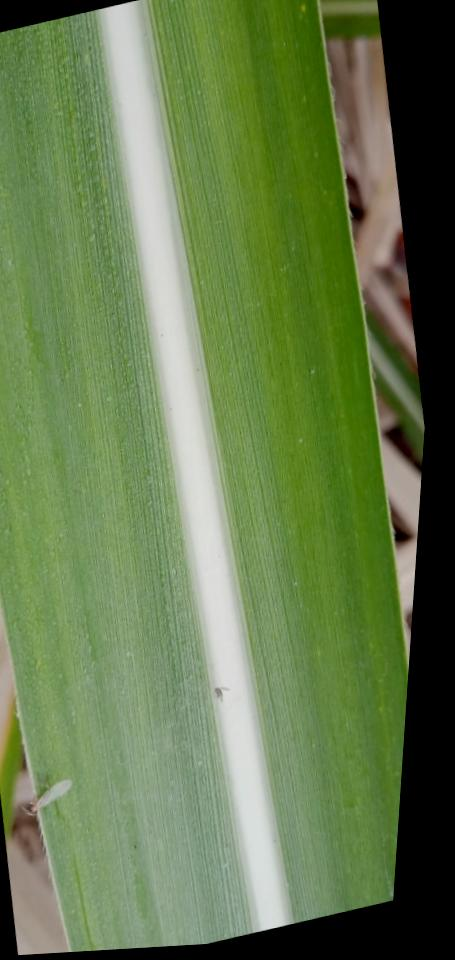Healthy: (0, 0, 408, 952), (318, 0, 379, 39)
